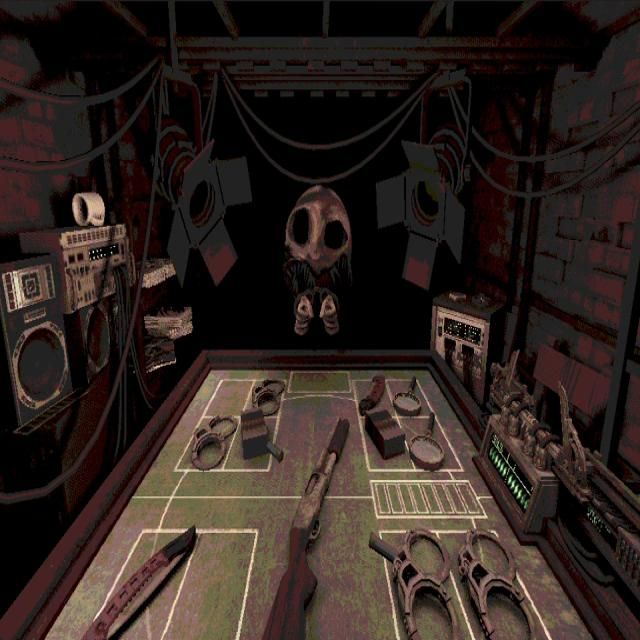ally: (18, 490, 621, 639)
cigar: (239, 408, 283, 468), (363, 409, 407, 460)
doubledamage: (82, 526, 195, 639), (358, 375, 385, 414)
enemyspace: (133, 367, 503, 500)
gun: (262, 419, 349, 639)
handcuff: (369, 529, 460, 639), (457, 528, 534, 639), (188, 416, 239, 468), (251, 376, 286, 416)
